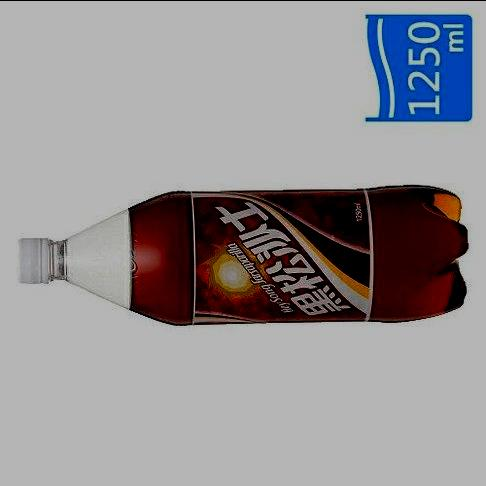bottle: (12, 173, 472, 332)
